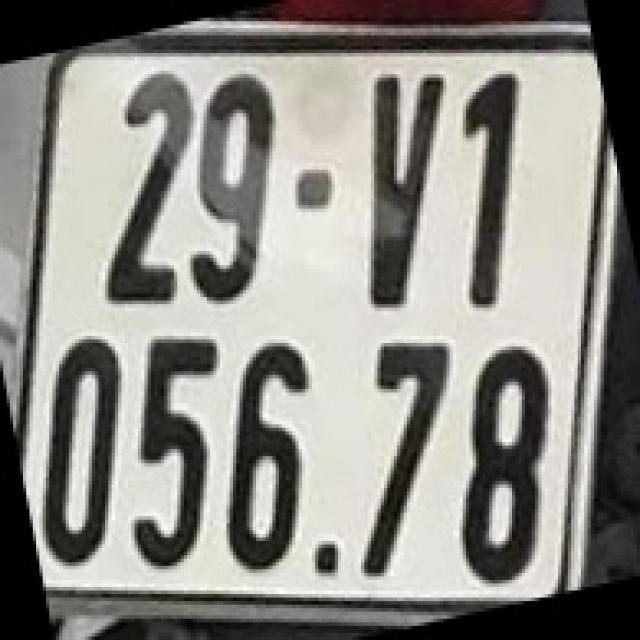0: (40, 336, 122, 566)
1: (456, 67, 528, 311)
2: (104, 70, 190, 304)
5: (134, 336, 216, 566)
6: (226, 339, 308, 573)
7: (358, 336, 450, 580)
8: (456, 339, 552, 587)
9: (194, 70, 276, 304)
V: (361, 67, 446, 308)
